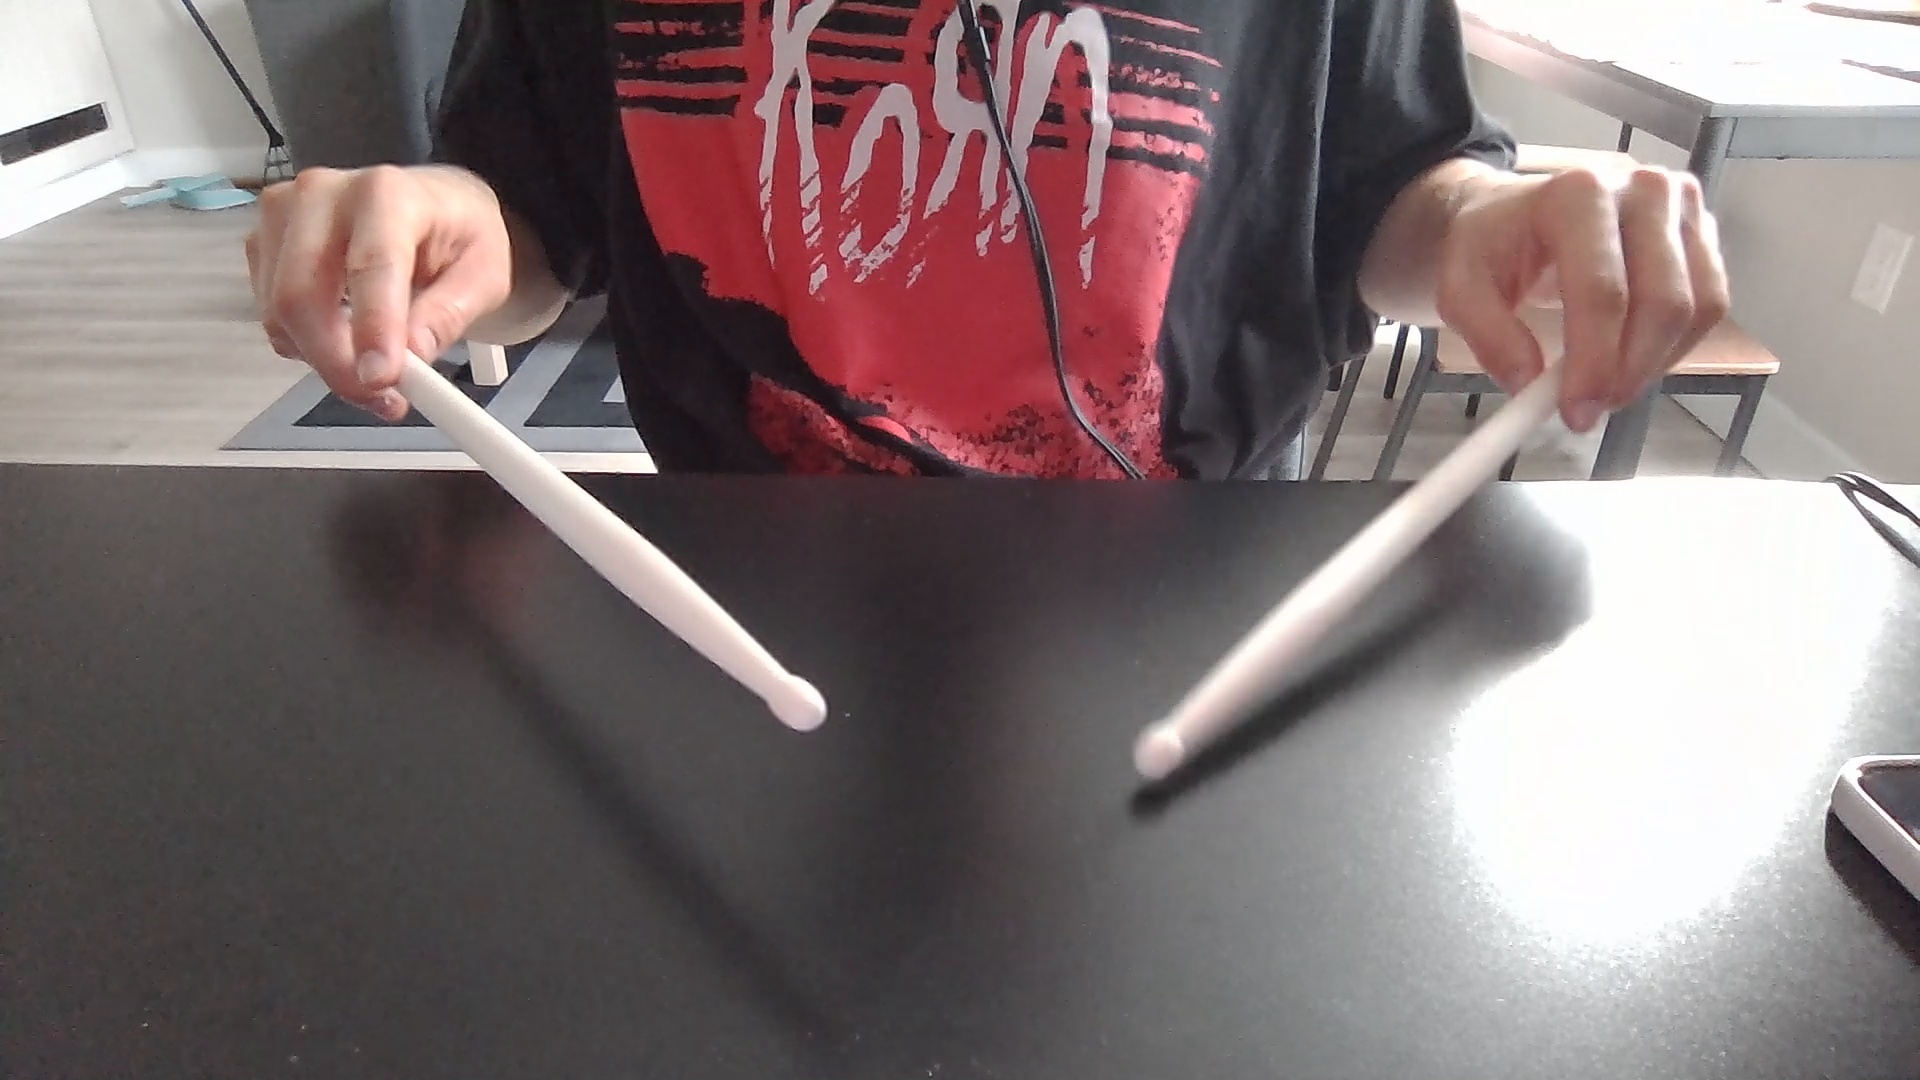left_stick: (764, 654, 844, 752)
right_stick: (1114, 700, 1193, 786)
